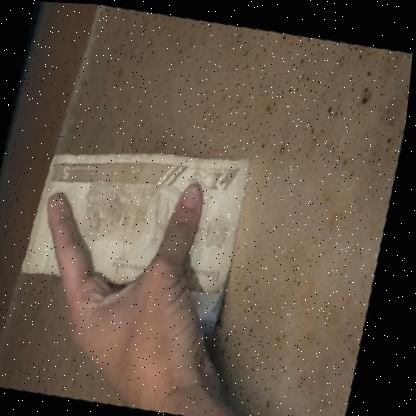five-back-vef: (21, 114, 265, 316)
